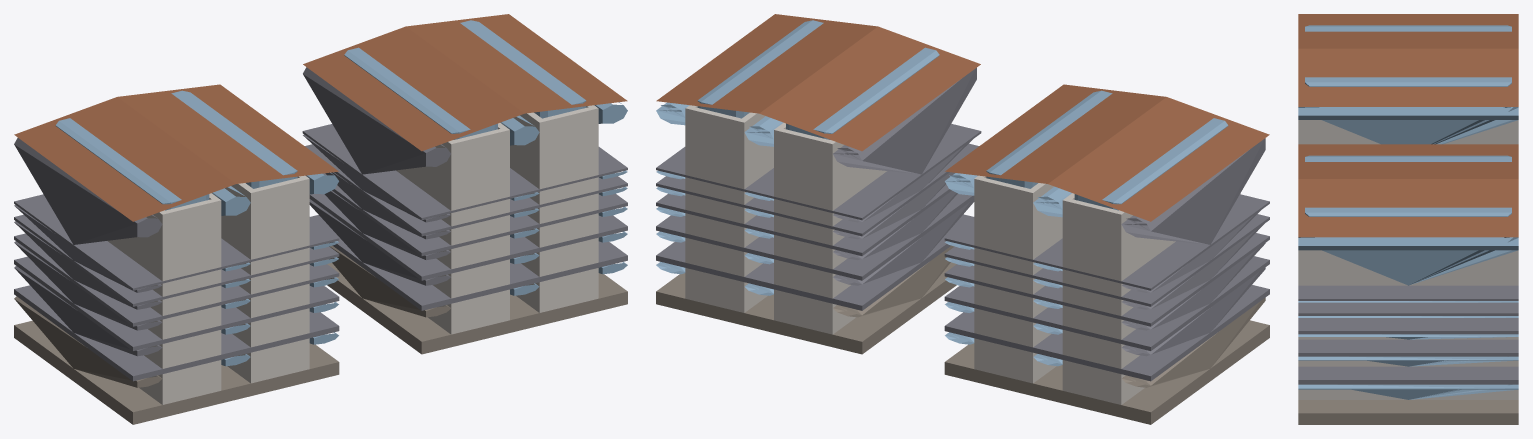
Rendered from gin_demo_fixed_colored.glb.
3 views of the same model, side by side, from view 1: azimuth 30°, elevation 25°; view 2: azimuth 150°, elevation 25°; view 3: azimuth 270°, elevation 25° (orthographic). The views are drawn at different scales.
Visible parts, largest first — view 1: world; view 2: world; view 3: world.
Part boxes in pixels (left/top/right/bottom): world: left=14, top=14, right=627, bottom=424; world: left=656, top=14, right=1269, bottom=424; world: left=1298, top=14, right=1518, bottom=424.
Size of the model in its own units: 24 by 10 by 10.
